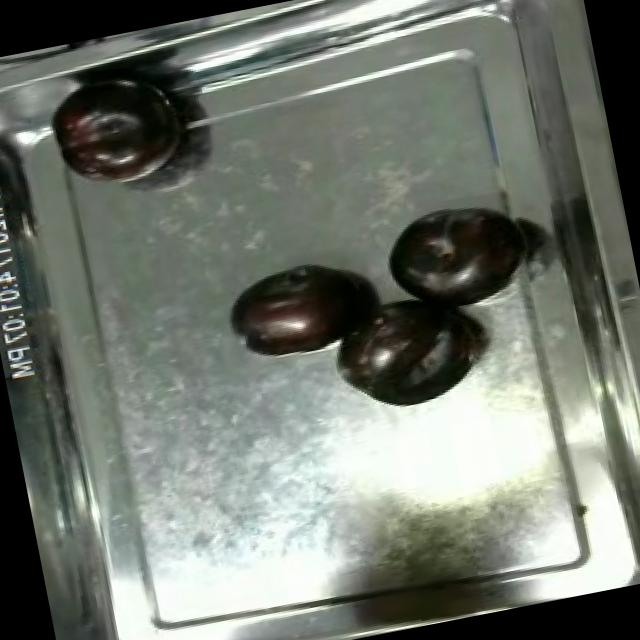Fruit: (327, 288, 491, 421), (371, 190, 534, 318), (40, 78, 194, 204), (218, 249, 380, 367)
